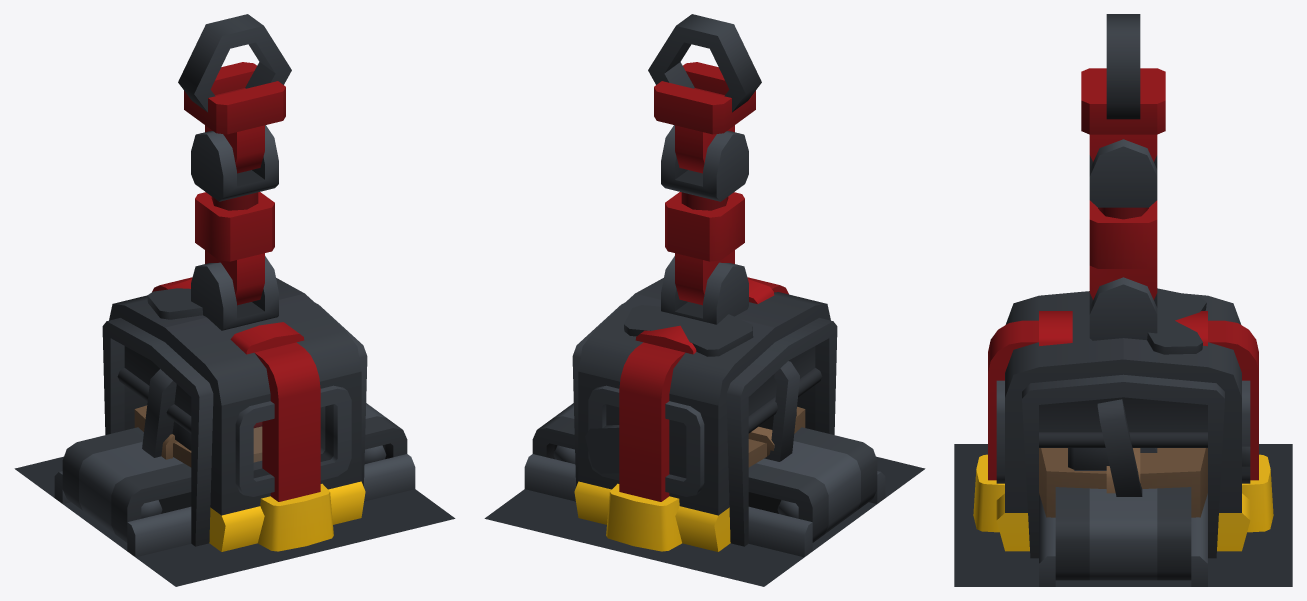
Rendered from factory-line.glb.
The picture shows the model from 3 angles, left to right: view 1: azimuth 30°, elevation 25°; view 2: azimuth 150°, elevation 25°; view 3: azimuth 270°, elevation 25°; orthographic projection. The views are drawn at different scales.
Parts seen in each view (by area): view 1: machine, conveyor-long-stripe-sides, scanner-high, floor-large, element-d, element-f, machine-window, element-e, element-c, claw-b, screen-panel-wide, claw-a (+1 smaller); view 2: machine, conveyor-long-stripe-sides, scanner-high, floor-large, element-d, machine-window, element-f, element-e, element-c, claw-b, screen-panel-wide, claw-a (+1 smaller); view 3: machine, conveyor-long-stripe-sides, floor-large, scanner-high, box-large, element-d, element-f, element-e, element-c, screen-panel-wide, claw-a, machine-window.
Part boxes in pixels (left/top/right/bottom): machine: left=102, top=278, right=367, bottom=551; conveyor-long-stripe-sides: left=54, top=403, right=415, bottom=557; scanner-high: left=152, top=277, right=333, bottom=551; floor-large: left=14, top=456, right=455, bottom=586; element-d: left=195, top=192, right=274, bottom=305; element-f: left=184, top=62, right=285, bottom=173; machine-window: left=124, top=385, right=351, bottom=496; element-e: left=191, top=125, right=278, bottom=201; element-c: left=191, top=256, right=278, bottom=330; claw-b: left=178, top=19, right=242, bottom=112; screen-panel-wide: left=142, top=369, right=191, bottom=457; claw-a: left=227, top=14, right=291, bottom=88; machine: left=572, top=278, right=837, bottom=551; conveyor-long-stripe-sides: left=524, top=403, right=885, bottom=557; scanner-high: left=606, top=277, right=788, bottom=551; floor-large: left=484, top=456, right=925, bottom=586; element-d: left=665, top=192, right=744, bottom=305; machine-window: left=578, top=305, right=718, bottom=514; element-f: left=654, top=62, right=755, bottom=173; element-e: left=661, top=125, right=748, bottom=201; element-c: left=661, top=256, right=748, bottom=324; claw-b: left=697, top=19, right=761, bottom=112; screen-panel-wide: left=759, top=361, right=799, bottom=461; claw-a: left=648, top=14, right=712, bottom=88; machine: left=996, top=288, right=1250, bottom=558; conveyor-long-stripe-sides: left=1039, top=487, right=1207, bottom=586; floor-large: left=954, top=444, right=1292, bottom=586; scanner-high: left=973, top=311, right=1273, bottom=532; box-large: left=1039, top=448, right=1207, bottom=517; element-d: left=1089, top=200, right=1157, bottom=299; element-f: left=1081, top=68, right=1165, bottom=161; element-e: left=1089, top=139, right=1157, bottom=207; element-c: left=1089, top=277, right=1157, bottom=340; screen-panel-wide: left=1068, top=399, right=1142, bottom=496; claw-a: left=1106, top=24, right=1140, bottom=119; machine-window: left=996, top=325, right=1250, bottom=483.
Bounding box in the file's own units: 2 × 3.35 × 2.
Materials: 4 (3 with a texture image).
